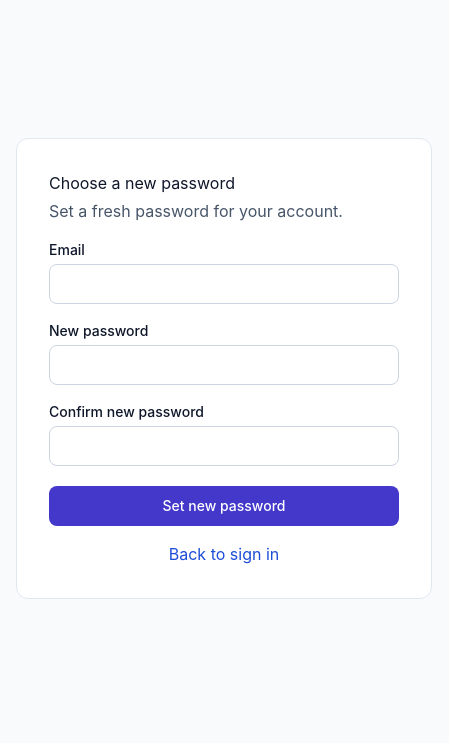
Test: ResetPasswordPage › blocks submission when passwords mismatch
The image size is (449, 743).
In the field labelled "Email": (224, 284) top-left (49, 264), bottom-right (399, 304), type "ada@example.com"
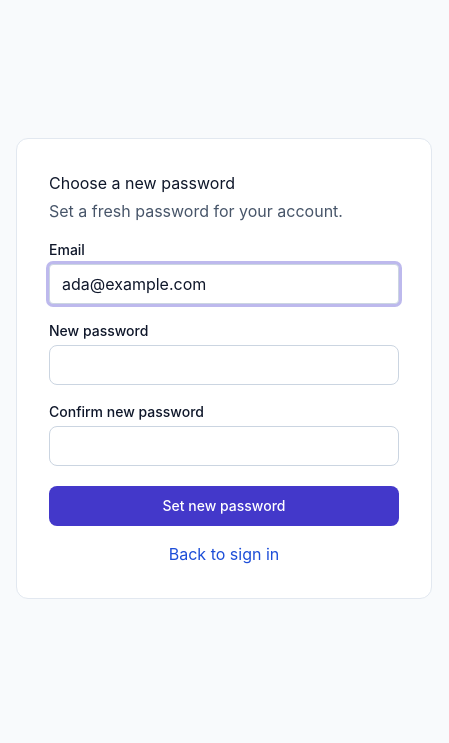
In the password field labelled "New password": (224, 364) top-left (49, 344), bottom-right (399, 384), type "newpass123"
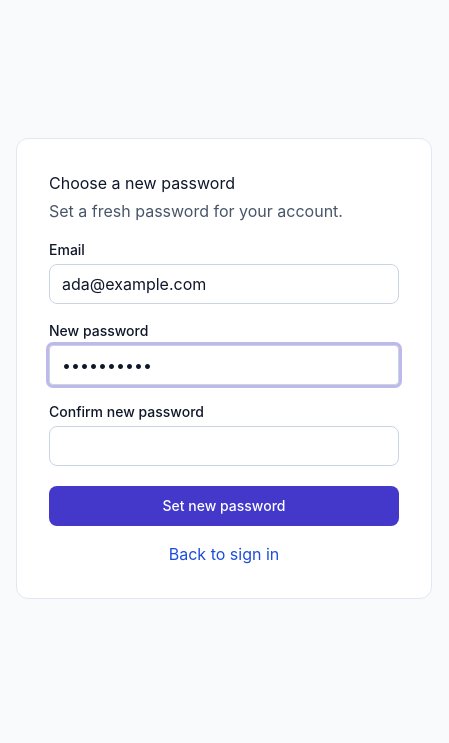
In the password field labelled "Confirm new password": (224, 446) top-left (49, 426), bottom-right (399, 466), type "different"
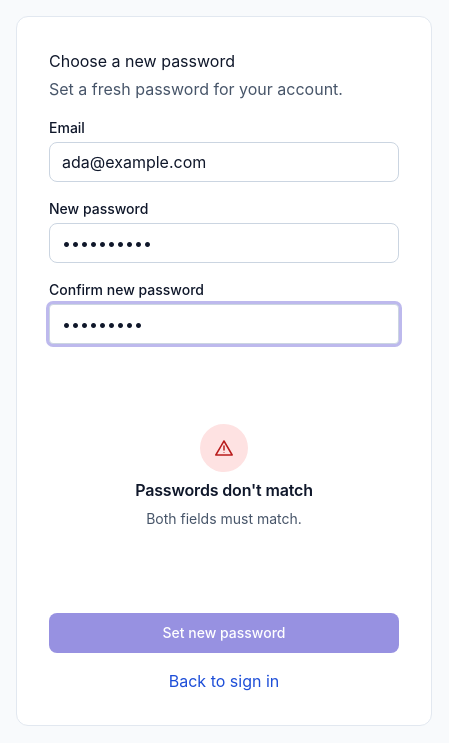
Expected: the heading "Passwords don't match" is shown, top-left (135, 480), bottom-right (313, 500)
Expected: the button "Set new password" is disabled, top-left (49, 613), bottom-right (399, 653)
